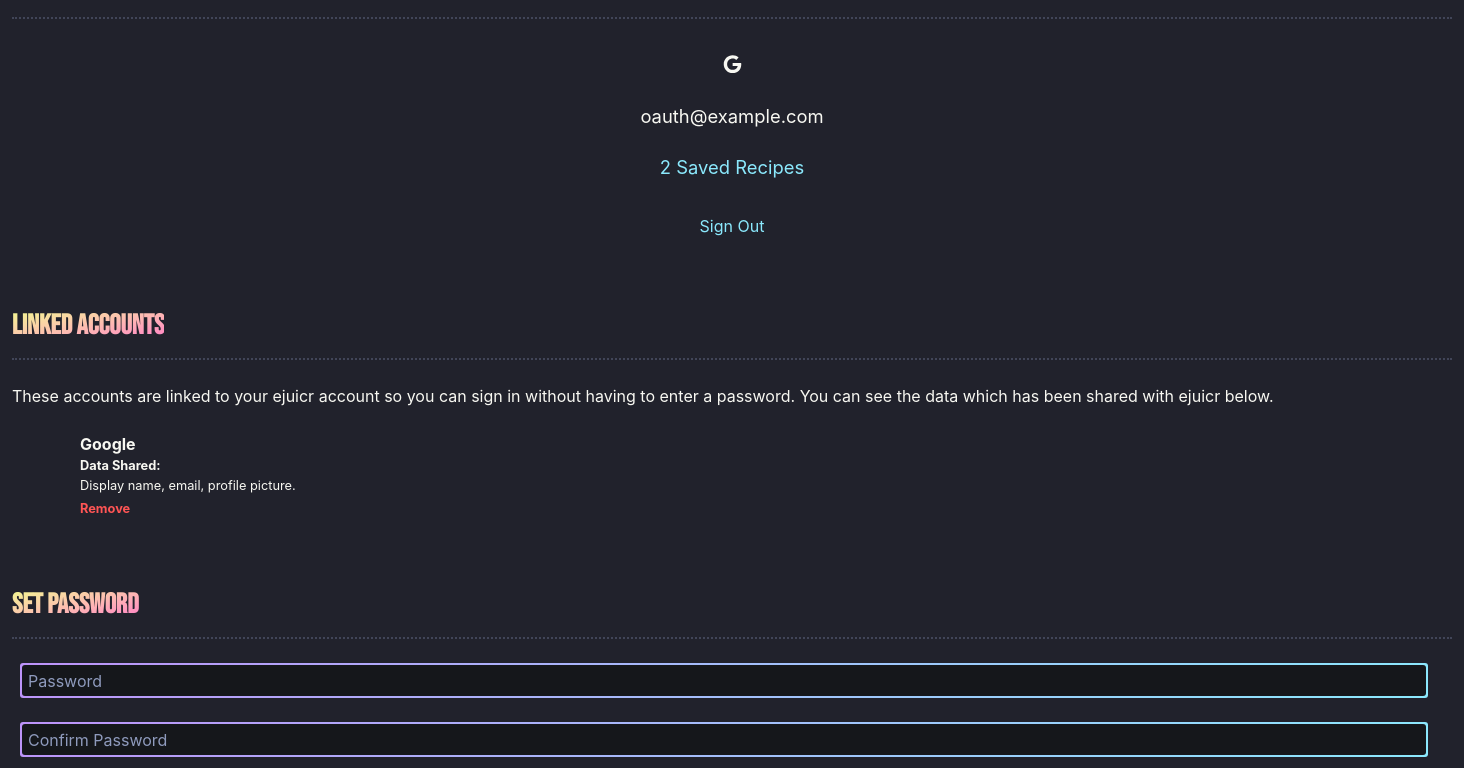
MyAccount set password › posts to the authenticated set-password endpoint
This screenshot has width=1464, height=768.
In the password field with placeholder "Password": {"x": 724, "y": 680} [22,665,1426,696], type "brand-new-password"
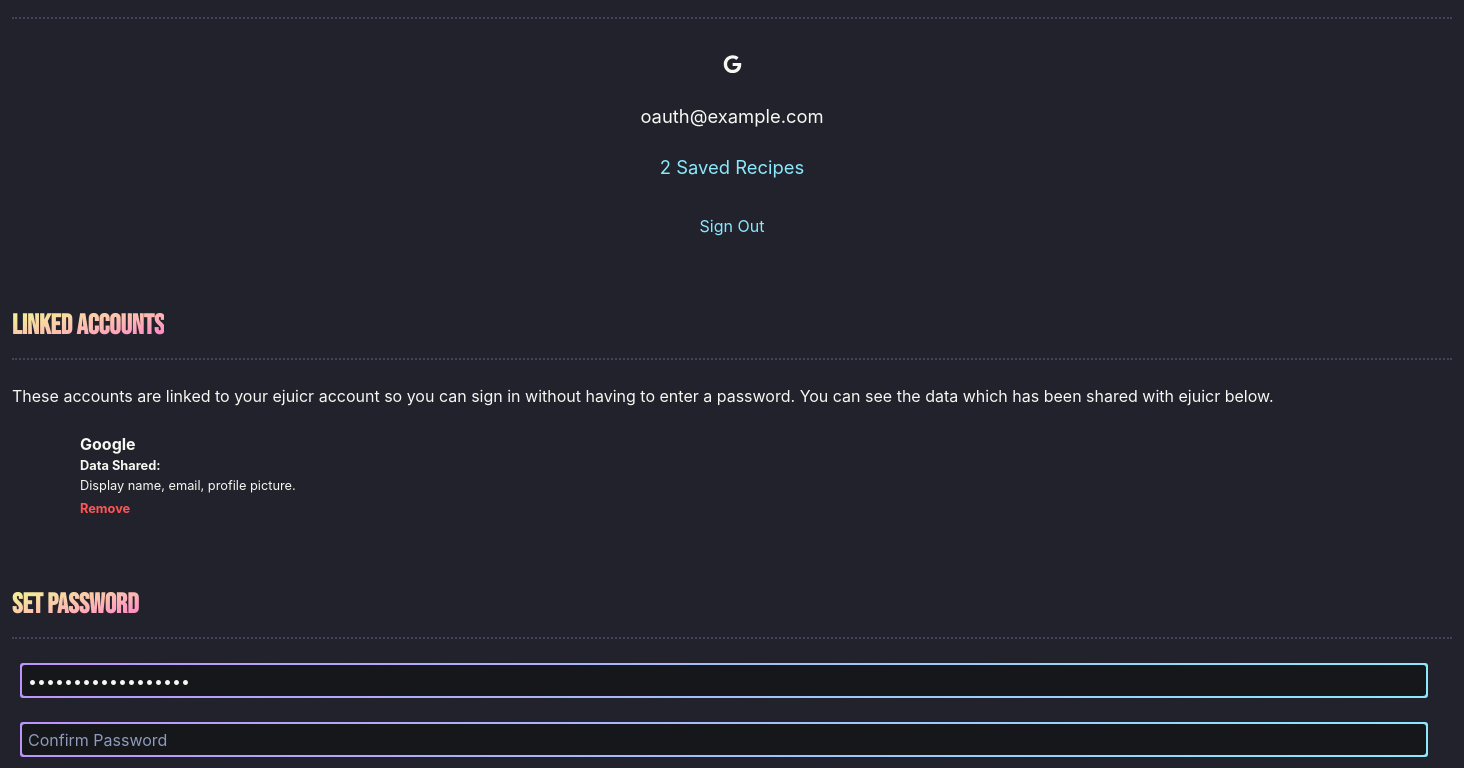
In the password field with placeholder "Confirm Password": {"x": 724, "y": 740} [22,724,1426,755], type "brand-new-password"
(page scrolled)
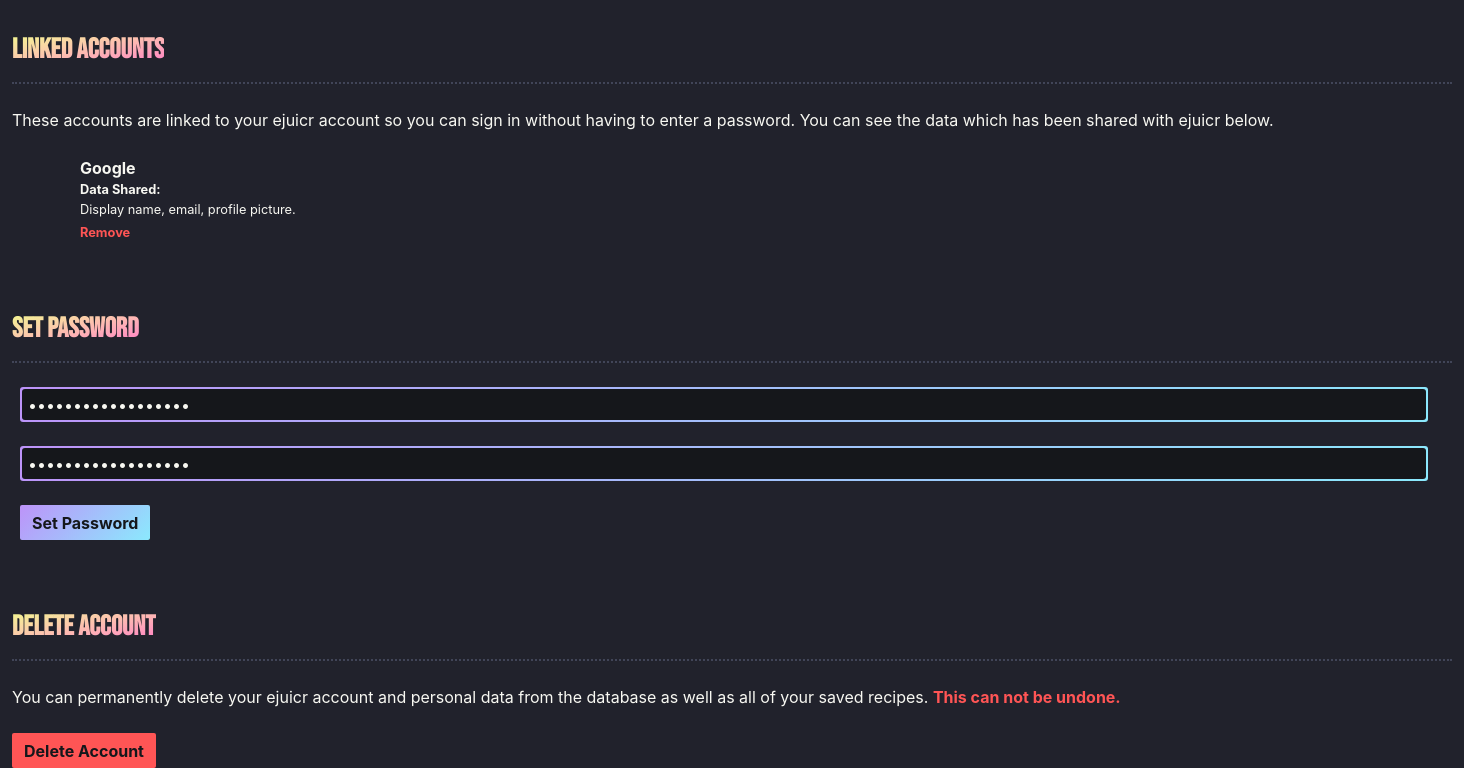
Click the button "Set Password": {"x": 85, "y": 522} [20,505,150,540]
(page scrolled)
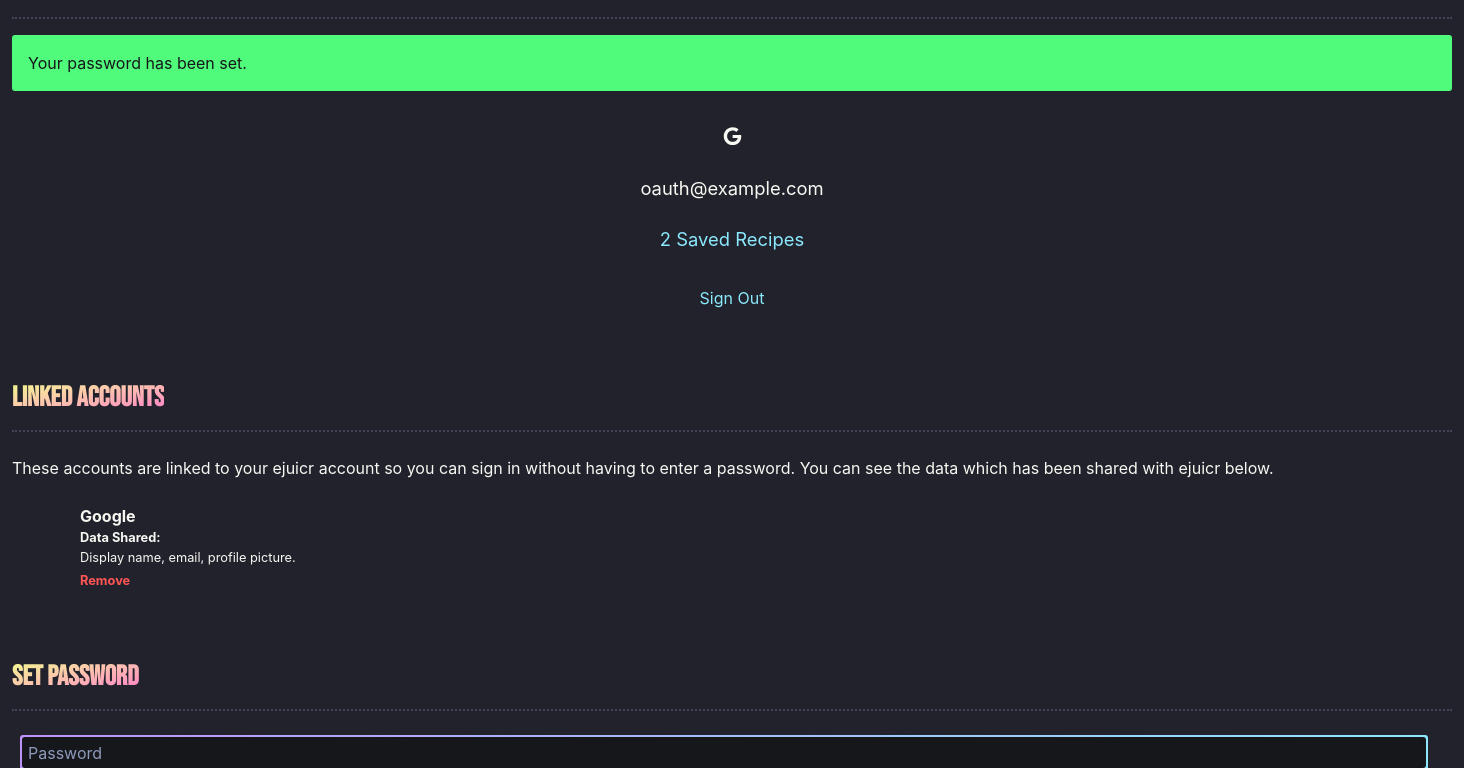
Result: the text "Your password has been set." is shown at [12,35,1452,91]
